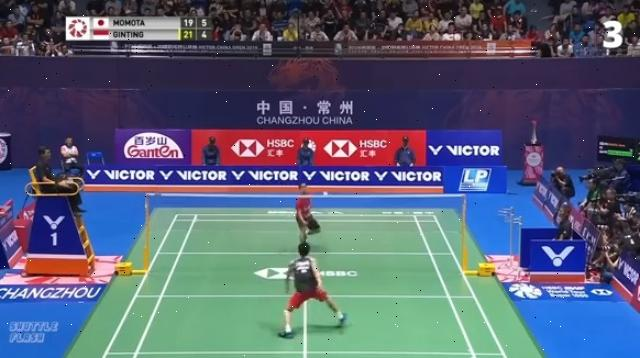Shuttlecock: (322, 188, 331, 200)
